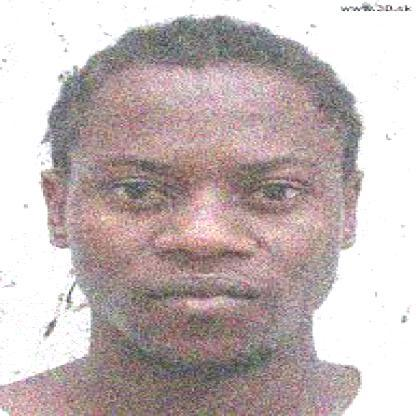without_mask: (78, 126, 349, 355)
